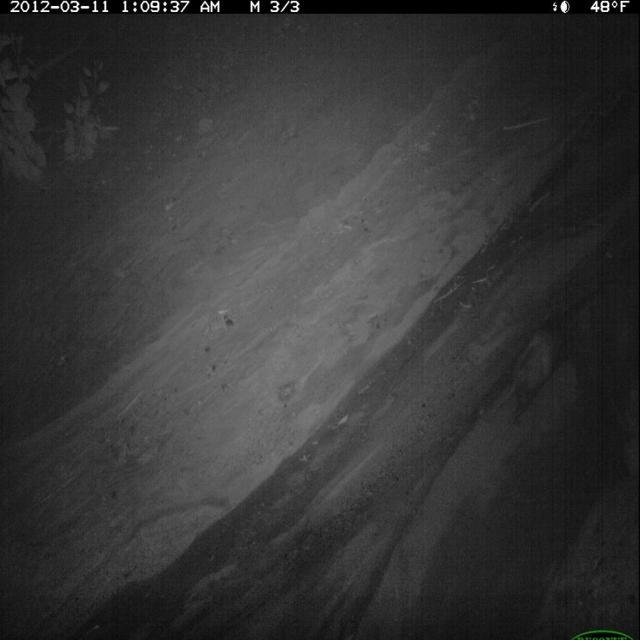opossum: (486, 303, 585, 429)
